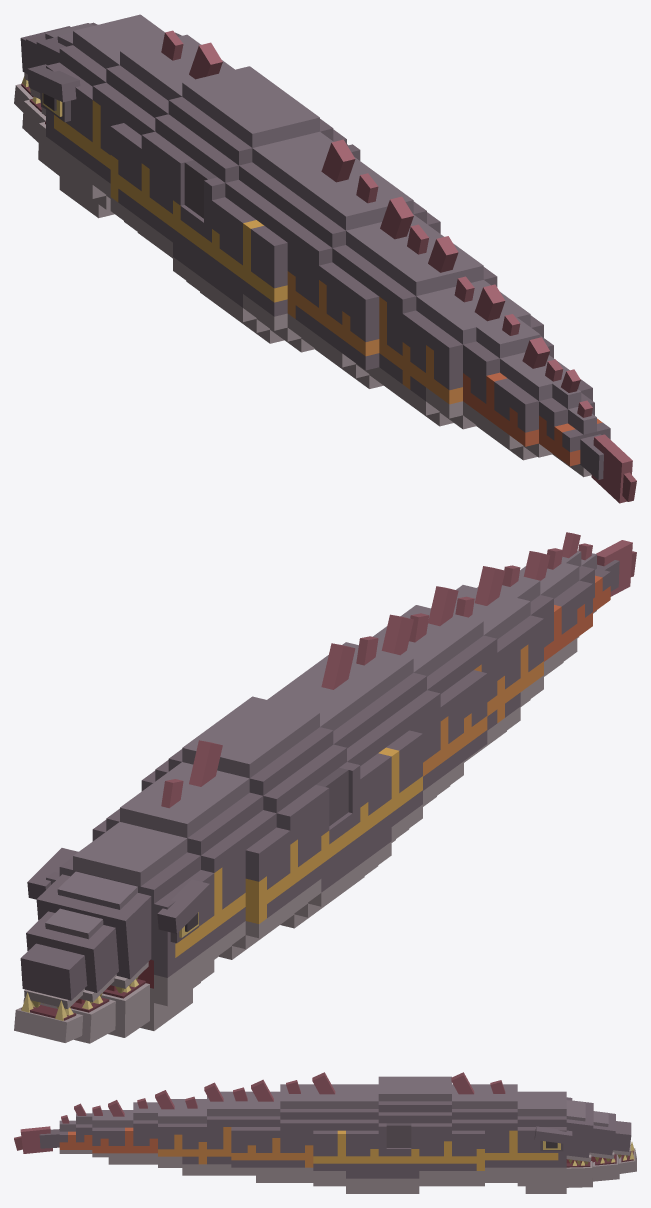
File: BrimstoneEel.glb
3 renders of one model, top to bottom at view 1: azimuth 30°, elevation 25°; view 2: azimuth 150°, elevation 25°; view 3: azimuth 270°, elevation 25°, orthographic. The views are drawn at different scales.
Parts seen in each view (by area): view 1: Head, S4, S6, S7, S5, S3, S2, S10, S8, S1, S12, S9 (+18 smaller); view 2: Head, S4, S3, S2, S1, S6, S5, S7, Jaw, S9, S8, S10 (+12 smaller); view 3: Head, S4, S5, S3, S2, S6, S7, S1, S8, S9, S10, S11 (+26 smaller).
Part boxes in pixels (x1=…): Head: x1=20, y1=14, x2=181, y2=218; S4: x1=173, y1=89, x2=360, y2=320; S6: x1=243, y1=139, x2=381, y2=352; S7: x1=287, y1=173, x2=440, y2=371; S5: x1=212, y1=131, x2=333, y2=343; S3: x1=141, y1=66, x2=280, y2=258; S2: x1=110, y1=42, x2=234, y2=254; S10: x1=379, y1=236, x2=497, y2=408; S8: x1=319, y1=196, x2=436, y2=388; S1: x1=92, y1=30, x2=200, y2=198; S12: x1=426, y1=284, x2=543, y2=429; S9: x1=342, y1=224, x2=459, y2=391; Head: x1=20, y1=822, x2=214, y2=1030; S4: x1=214, y1=696, x2=360, y2=928; S3: x1=141, y1=725, x2=321, y2=936; S2: x1=151, y1=740, x2=290, y2=959; S1: x1=92, y1=779, x2=245, y2=959; S6: x1=284, y1=643, x2=422, y2=842; S5: x1=267, y1=687, x2=391, y2=899; S7: x1=315, y1=636, x2=440, y2=805; Jaw: x1=14, y1=979, x2=149, y2=1043; S9: x1=373, y1=613, x2=487, y2=761; S8: x1=377, y1=614, x2=463, y2=806; S10: x1=401, y1=586, x2=497, y2=762; Head: x1=517, y1=1091, x2=631, y2=1193; S4: x1=378, y1=1076, x2=419, y2=1193; S5: x1=346, y1=1084, x2=378, y2=1193; S3: x1=419, y1=1076, x2=451, y2=1186; S2: x1=451, y1=1072, x2=484, y2=1186; S6: x1=312, y1=1072, x2=345, y2=1186; S7: x1=280, y1=1080, x2=313, y2=1182; S1: x1=485, y1=1080, x2=517, y2=1182; S8: x1=251, y1=1079, x2=280, y2=1182; S9: x1=231, y1=1087, x2=255, y2=1175; S10: x1=204, y1=1082, x2=231, y2=1175; S11: x1=182, y1=1096, x2=206, y2=1175.
Size of the model in its own units: 4.95 by 6.56 by 34.29.
